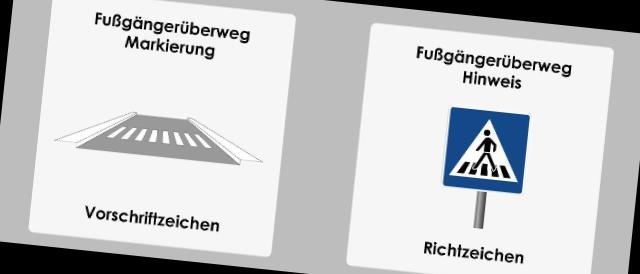crosswalk-sign: (442, 107, 531, 197)
